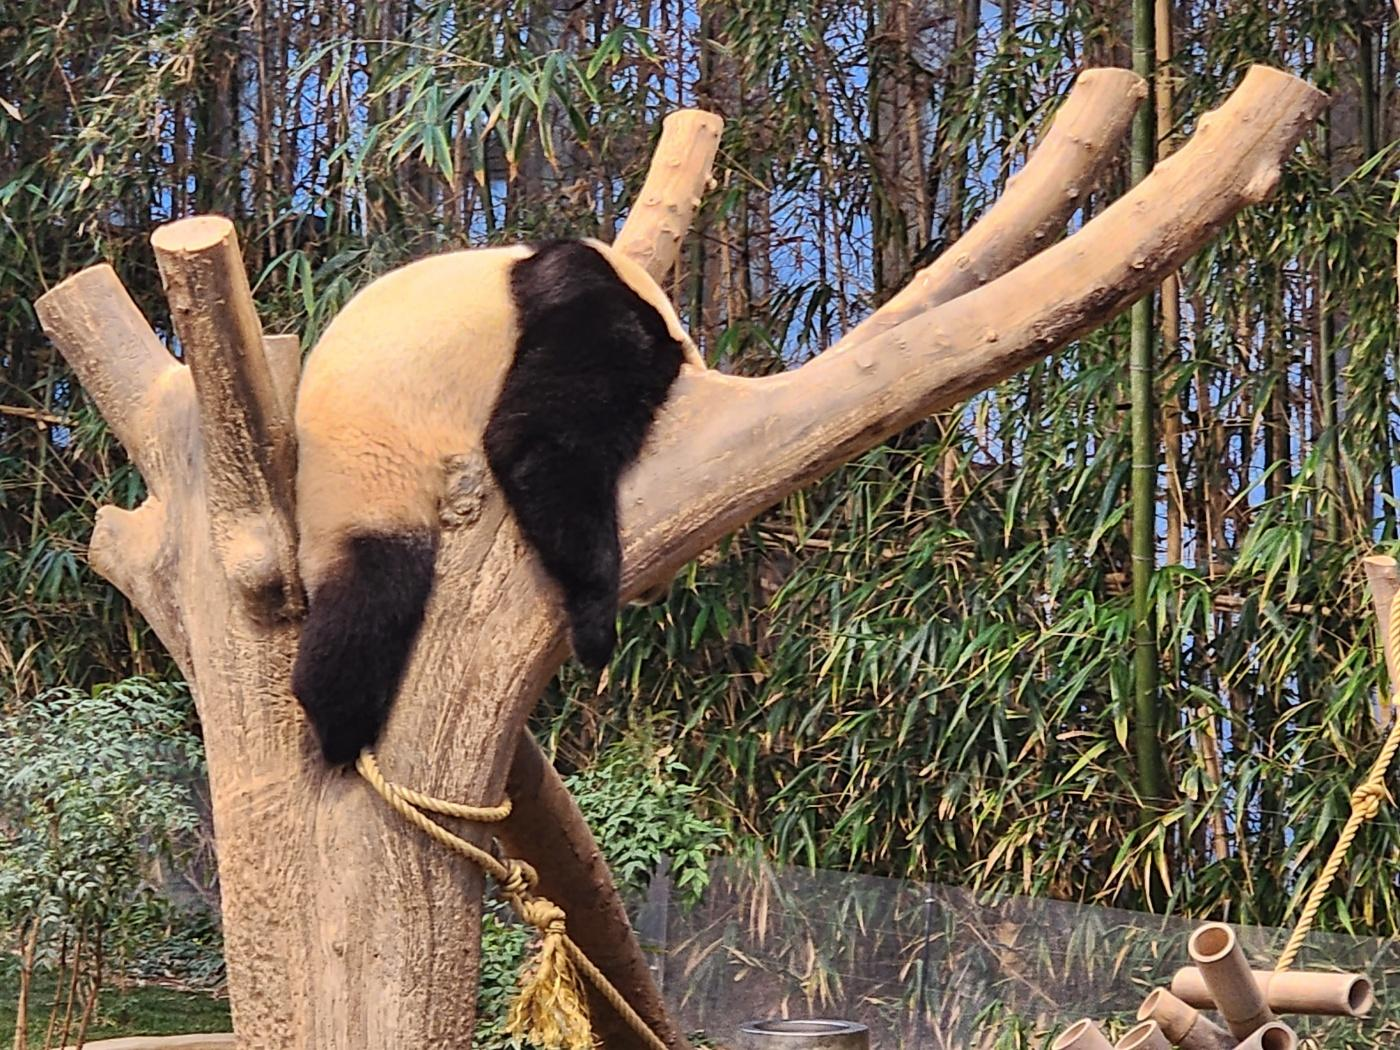panda: (287, 233, 706, 769)
